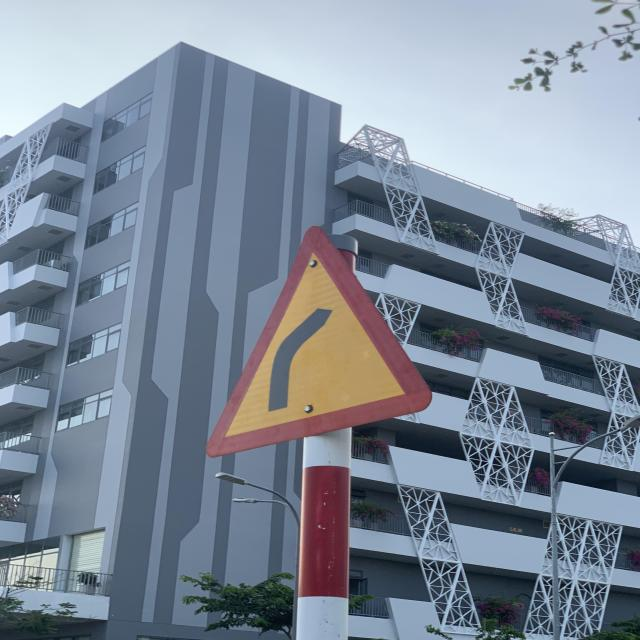Duong_Nguoi_Di_Bo_Cat_Ngang: (206, 224, 432, 451)
